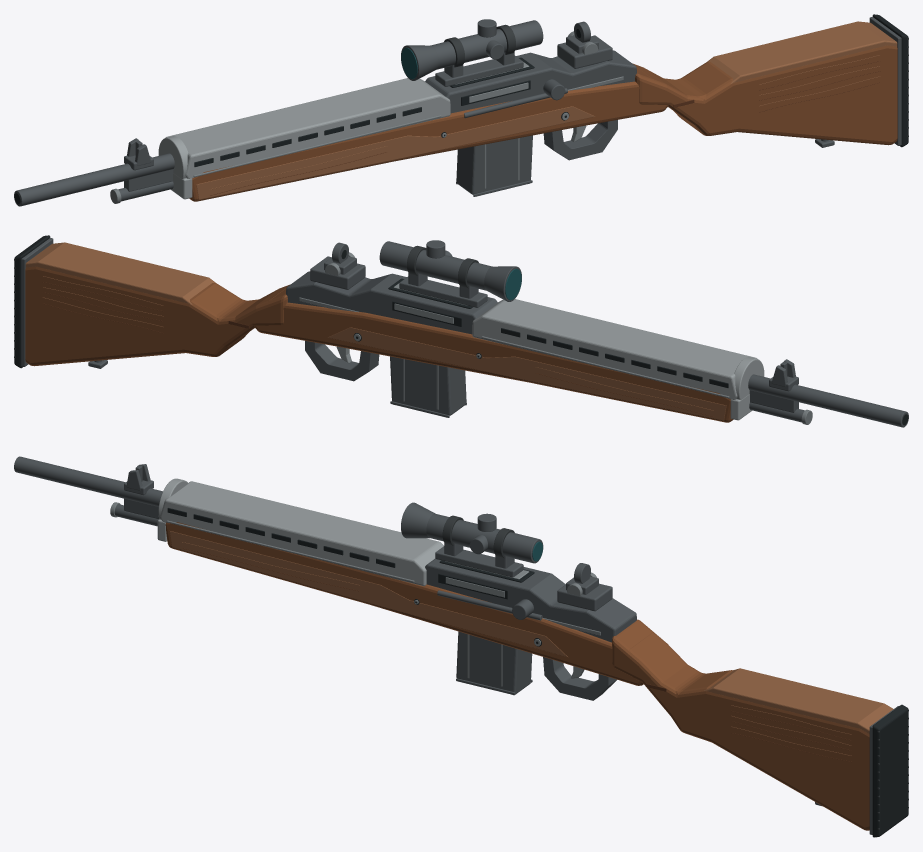
The picture shows the model from 3 angles, top to bottom: view 1: azimuth 30°, elevation 25°; view 2: azimuth 150°, elevation 25°; view 3: azimuth 330°, elevation 25°; orthographic projection.
Visible parts, largest first — view 1: part_stock_surfaces, part_body_surfaces, part_handguard_surfaces, part_receiver_surfaces, part_optic_surfaces, part_barrel_surfaces, part_magazine_surfaces, part_guard_surfaces, part_sights_surfaces; view 2: part_stock_surfaces, part_body_surfaces, part_handguard_surfaces, part_receiver_surfaces, part_optic_surfaces, part_barrel_surfaces, part_magazine_surfaces, part_guard_surfaces, part_sights_surfaces; view 3: part_stock_surfaces, part_body_surfaces, part_handguard_surfaces, part_receiver_surfaces, part_optic_surfaces, part_magazine_surfaces, part_barrel_surfaces, part_guard_surfaces, part_sights_surfaces.
Boxes of the visible parts, left/top/right/bottom form: part_stock_surfaces: left=633, top=14, right=908, bottom=147; part_body_surfaces: left=189, top=63, right=668, bottom=201; part_handguard_surfaces: left=158, top=78, right=450, bottom=199; part_receiver_surfaces: left=425, top=35, right=636, bottom=118; part_optic_surfaces: left=401, top=19, right=543, bottom=86; part_barrel_surfaces: left=14, top=153, right=174, bottom=206; part_magazine_surfaces: left=456, top=135, right=532, bottom=196; part_guard_surfaces: left=543, top=120, right=617, bottom=160; part_sights_surfaces: left=124, top=21, right=598, bottom=170; part_stock_surfaces: left=14, top=235, right=289, bottom=368; part_body_surfaces: left=254, top=284, right=733, bottom=422; part_handguard_surfaces: left=472, top=299, right=764, bottom=420; part_receiver_surfaces: left=286, top=256, right=497, bottom=334; part_optic_surfaces: left=379, top=240, right=521, bottom=307; part_barrel_surfaces: left=748, top=374, right=908, bottom=427; part_magazine_surfaces: left=390, top=356, right=466, bottom=417; part_guard_surfaces: left=305, top=341, right=379, bottom=381; part_sights_surfaces: left=324, top=242, right=798, bottom=391; part_stock_surfaces: left=612, top=619, right=908, bottom=837; part_body_surfaces: left=165, top=522, right=654, bottom=685; part_handguard_surfaces: left=157, top=478, right=443, bottom=586; part_receiver_surfaces: left=425, top=558, right=636, bottom=642; part_optic_surfaces: left=401, top=502, right=543, bottom=577; part_magazine_surfaces: left=456, top=631, right=532, bottom=695; part_barrel_surfaces: left=14, top=456, right=162, bottom=526; part_guard_surfaces: left=543, top=657, right=616, bottom=700; part_sights_surfaces: left=124, top=464, right=598, bottom=596.
Bounding box in the file's own units: 340 × 78.5 × 23.3.
